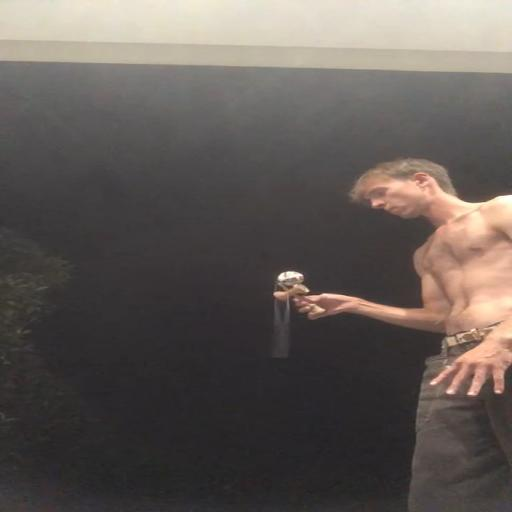kendama_ball: (277, 271, 304, 286)
